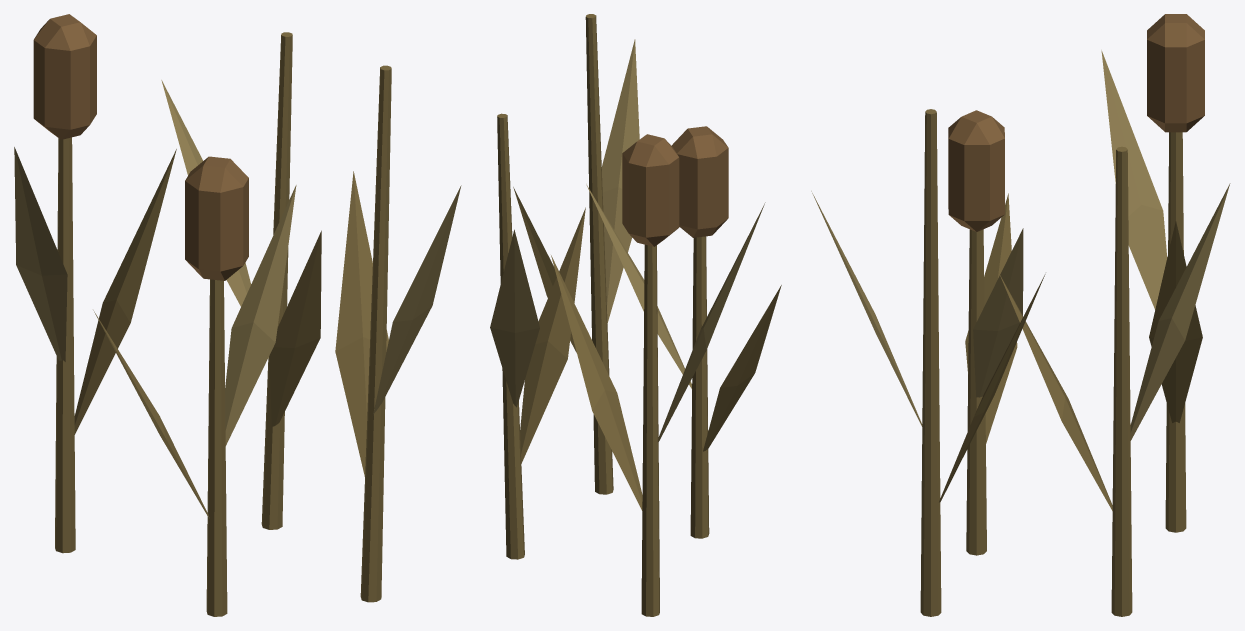
The model's file is reeds_1_autumn.glb.
The picture shows the model from 3 angles, left to right: view 1: azimuth 30°, elevation 25°; view 2: azimuth 150°, elevation 25°; view 3: azimuth 270°, elevation 25°; orthographic projection. The views are drawn at different scales.
Parts seen in each view (by area): view 1: reeds_1_autumn; view 2: reeds_1_autumn; view 3: reeds_1_autumn.
Part boxes in pixels (left/top/right/bottom): reeds_1_autumn: left=14, top=14, right=461, bottom=616; reeds_1_autumn: left=490, top=14, right=781, bottom=616; reeds_1_autumn: left=811, top=14, right=1230, bottom=616.
Size of the model in its own units: 0.8337 by 1.36 by 1.01.
